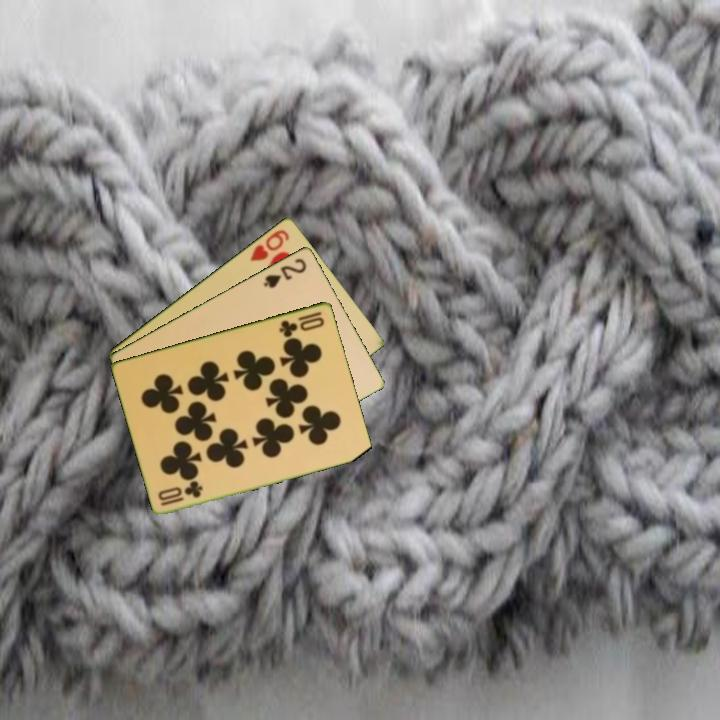10c: (276, 308, 327, 339), (155, 478, 206, 508)
2s: (260, 254, 310, 291)
6h: (246, 226, 292, 264)
